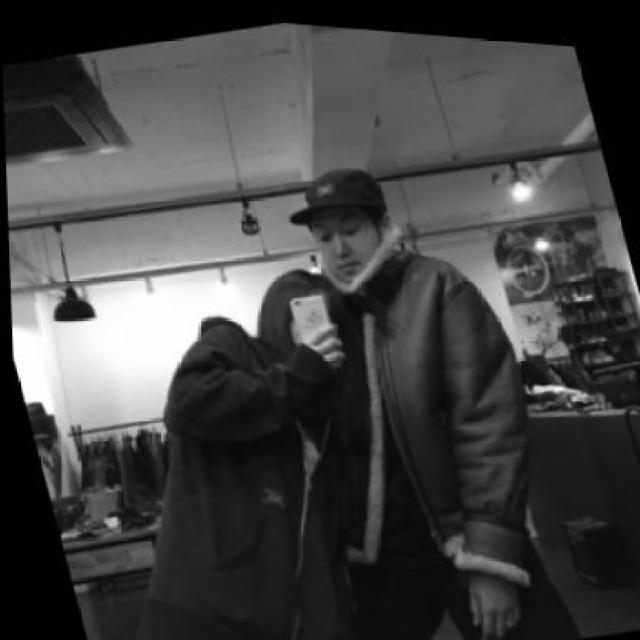hat: (272, 147, 393, 239)
